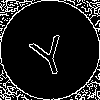Y: (25, 25, 72, 79)
